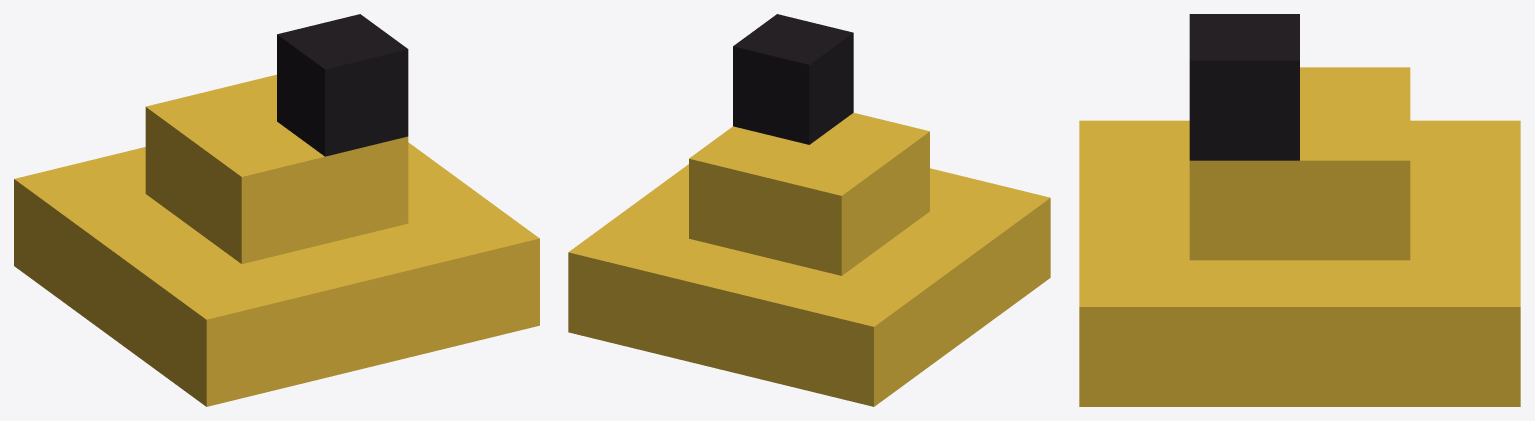
File: bell.glb
3 renders of one model, left to right at view 1: azimuth 30°, elevation 25°; view 2: azimuth 150°, elevation 25°; view 3: azimuth 270°, elevation 25°, orthographic. The views are drawn at different scales.
Parts seen in each view (by area): view 1: bell; view 2: bell; view 3: bell.
Part boxes in pixels (x1=…): bell: x1=14, y1=14, x2=539, y2=406; bell: x1=568, y1=14, x2=1050, y2=406; bell: x1=1079, y1=14, x2=1520, y2=406.
Size of the model in its own units: 0.2 by 0.15 by 0.2.
Materials: 1 (1 with a texture image).
